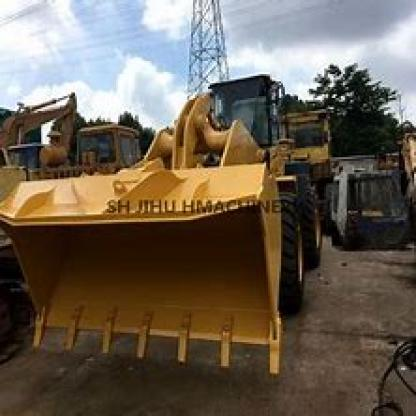bull_dozer/loader/grader: (7, 70, 336, 385)
